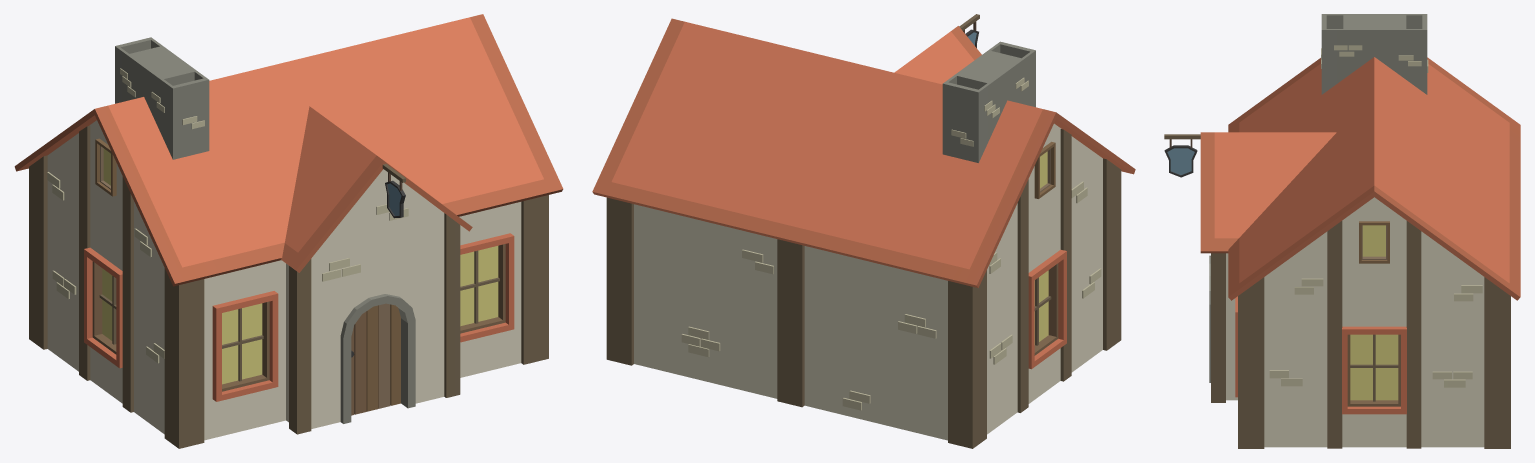
File: House_2.fbx
The picture shows the model from 3 angles, left to right: view 1: azimuth 30°, elevation 25°; view 2: azimuth 150°, elevation 25°; view 3: azimuth 270°, elevation 25°; orthographic projection. The views are drawn at different scales.
Visible parts, largest first — view 1: House_2; view 2: House_2; view 3: House_2.
Part boxes in pixels (box(x1,y1,x2,y2)): House_2: box(14, 14, 563, 448); House_2: box(592, 14, 1135, 448); House_2: box(1164, 14, 1520, 448).
Size of the model in its own units: 130 by 101 by 113.
Materials: 1 (1 with a texture image).
